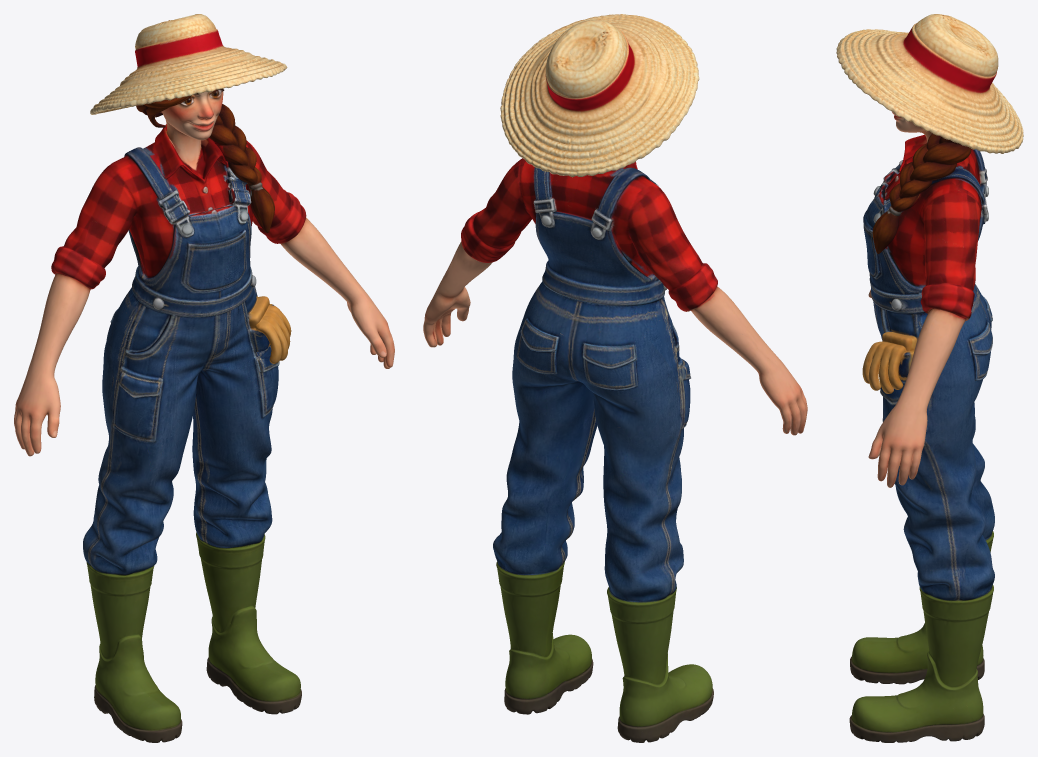
File: farmer-woman.glb
3 renders of one model, left to right at view 1: azimuth 30°, elevation 25°; view 2: azimuth 150°, elevation 25°; view 3: azimuth 270°, elevation 25°, orthographic.
Parts seen in each view (by area): view 1: farmer-woman; view 2: farmer-woman; view 3: farmer-woman.
Boxes of the visible parts, x1=… form: farmer-woman: x1=14, y1=14, x2=394, y2=742; farmer-woman: x1=423, y1=14, x2=807, y2=742; farmer-woman: x1=836, y1=14, x2=1023, y2=742.
Bounding box in the file's own units: 0.9794 × 1.72 × 0.4256.
1 material, 1 textured.
